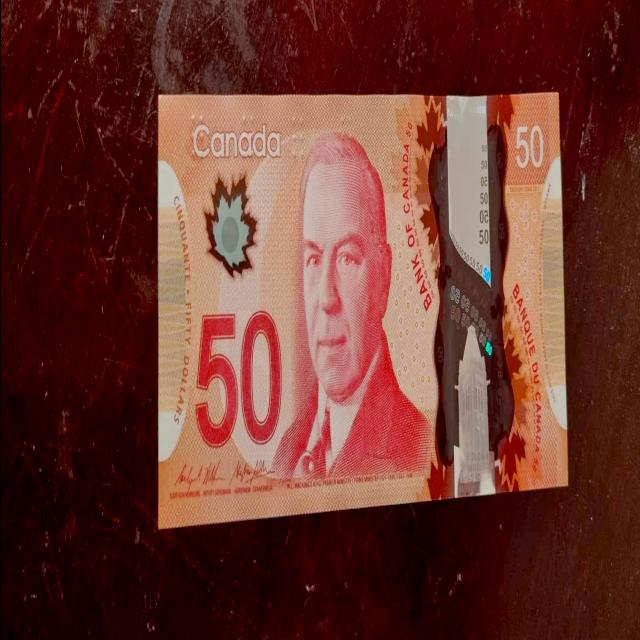50 cad: (165, 77, 568, 534)
